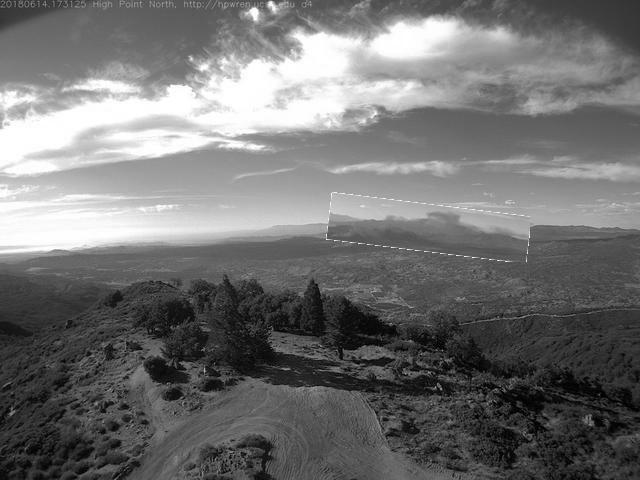smoke: (328, 199, 531, 258)
